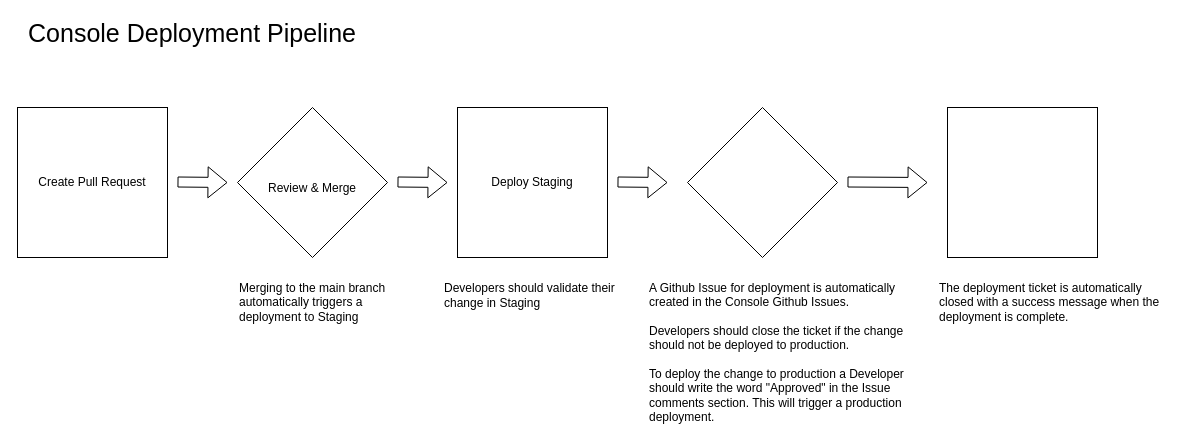
This 1185x441 diagram has some shape labels left out. Each missing label, with the box of its shape:
Approve Issue: (686, 106, 838, 258)
Deploy Production: (946, 106, 1098, 258)
